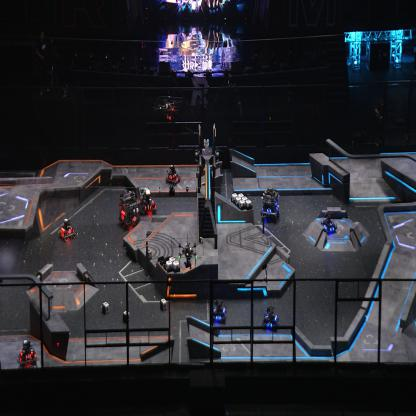car: (118, 191, 142, 231), (260, 187, 281, 221), (18, 339, 38, 367), (138, 187, 156, 214), (58, 216, 76, 242), (320, 210, 338, 235), (262, 306, 279, 331), (211, 299, 226, 325), (165, 163, 181, 187)
